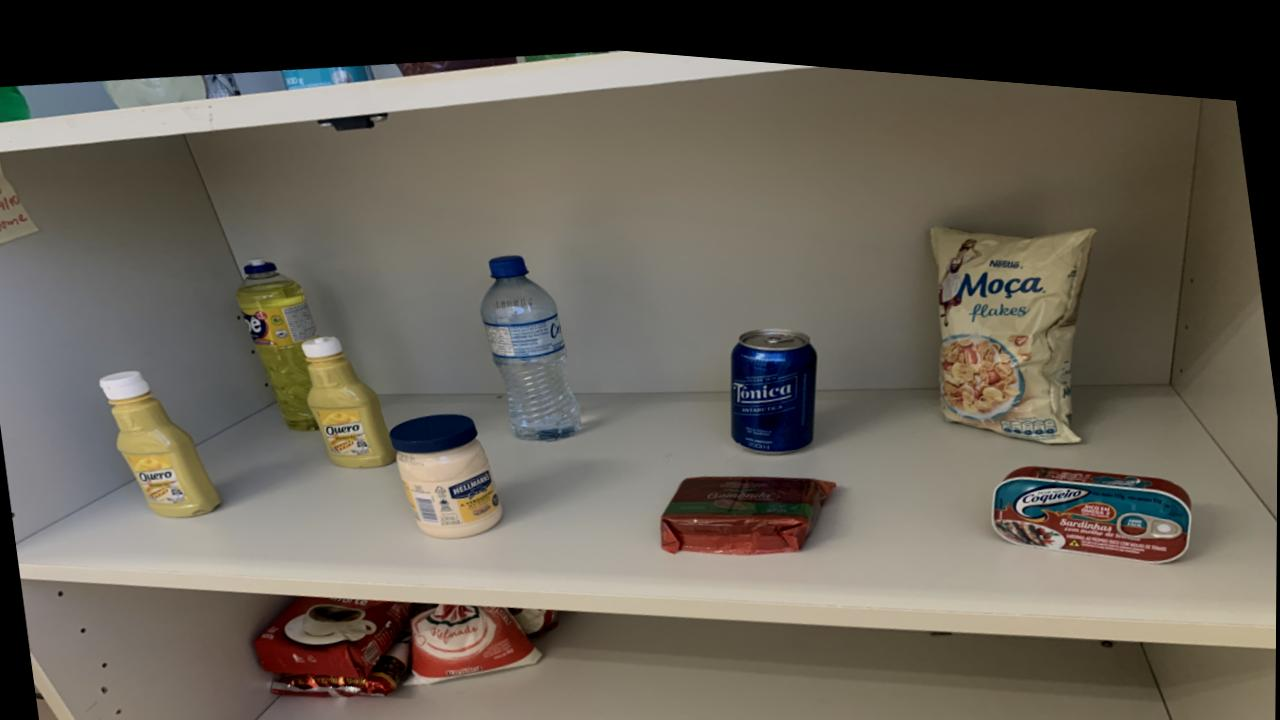Cleaner-Cleanup_Items: (280, 58, 373, 85)
Coffee-Pantry_Items: (397, 47, 516, 69)
Detergent-Cleanup_Items: (235, 254, 318, 425), (0, 85, 29, 122)
Flakes-Snacks: (931, 209, 1096, 426)
Guava-Snacks: (660, 463, 835, 542)
Mayonnaise-Pantry_Items: (389, 406, 502, 530)
Mustard-Pantry_Items: (99, 368, 220, 514), (302, 330, 396, 461)
Soda-Drinks: (102, 71, 206, 106)
Tonic-Drinks: (730, 314, 818, 440)
Tuna_Can-Pantry_Items: (992, 448, 1192, 543)
Water_Bottle-Drinks: (479, 245, 582, 431)
